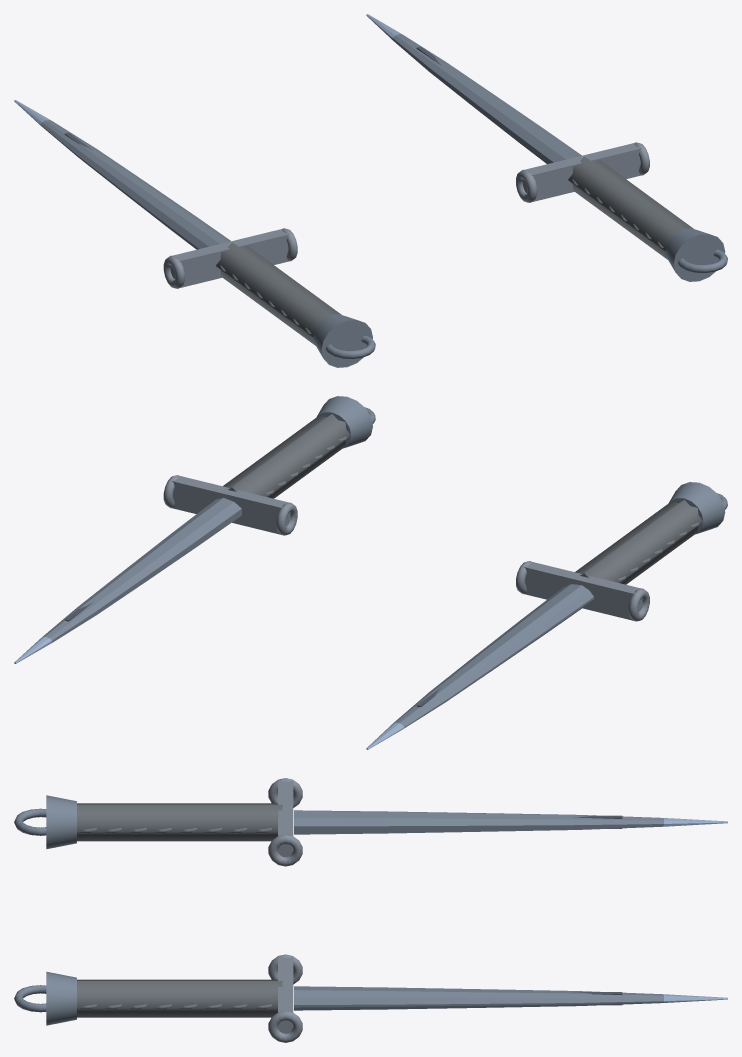
Rendered from art_silent_dirks.fbx.
3 views of the same model, one above another, from view 1: azimuth 30°, elevation 25°; view 2: azimuth 150°, elevation 25°; view 3: azimuth 270°, elevation 25° (orthographic). The views are drawn at different scales.
Parts seen in each view (by area): view 1: Handle, HandleL, Blade, BladeL, CrossguardL, Crossguard, PommelL, Pommel; view 2: BladeL, Blade, Handle, HandleL, Crossguard, CrossguardL, Pommel, PommelL; view 3: HandleL, Handle, Blade, BladeL, CrossguardL, Crossguard, PommelL, Pommel.
Boxes of the visible parts, x1,y1,x2,y2 form: Handle: (568, 156, 693, 259); HandleL: (216, 242, 341, 345); Blade: (392, 34, 581, 163); BladeL: (40, 120, 230, 249); CrossguardL: (163, 228, 297, 288); Crossguard: (516, 142, 649, 202); PommelL: (313, 314, 375, 367); Pommel: (665, 228, 727, 281); BladeL: (393, 584, 593, 728); Blade: (42, 498, 241, 642); Handle: (223, 414, 350, 498); HandleL: (575, 500, 702, 584); Crossguard: (163, 475, 297, 535); CrossguardL: (516, 561, 649, 621); Pommel: (317, 396, 375, 448); PommelL: (668, 482, 727, 534); HandleL: (77, 803, 282, 841); Handle: (77, 979, 282, 1017); Blade: (294, 986, 663, 1010); BladeL: (294, 810, 663, 834); CrossguardL: (268, 778, 302, 866); Crossguard: (268, 954, 302, 1042); PommelL: (14, 795, 76, 849); Pommel: (14, 971, 76, 1025).
Size of the model in its own units: 202 by 19 by 257.
